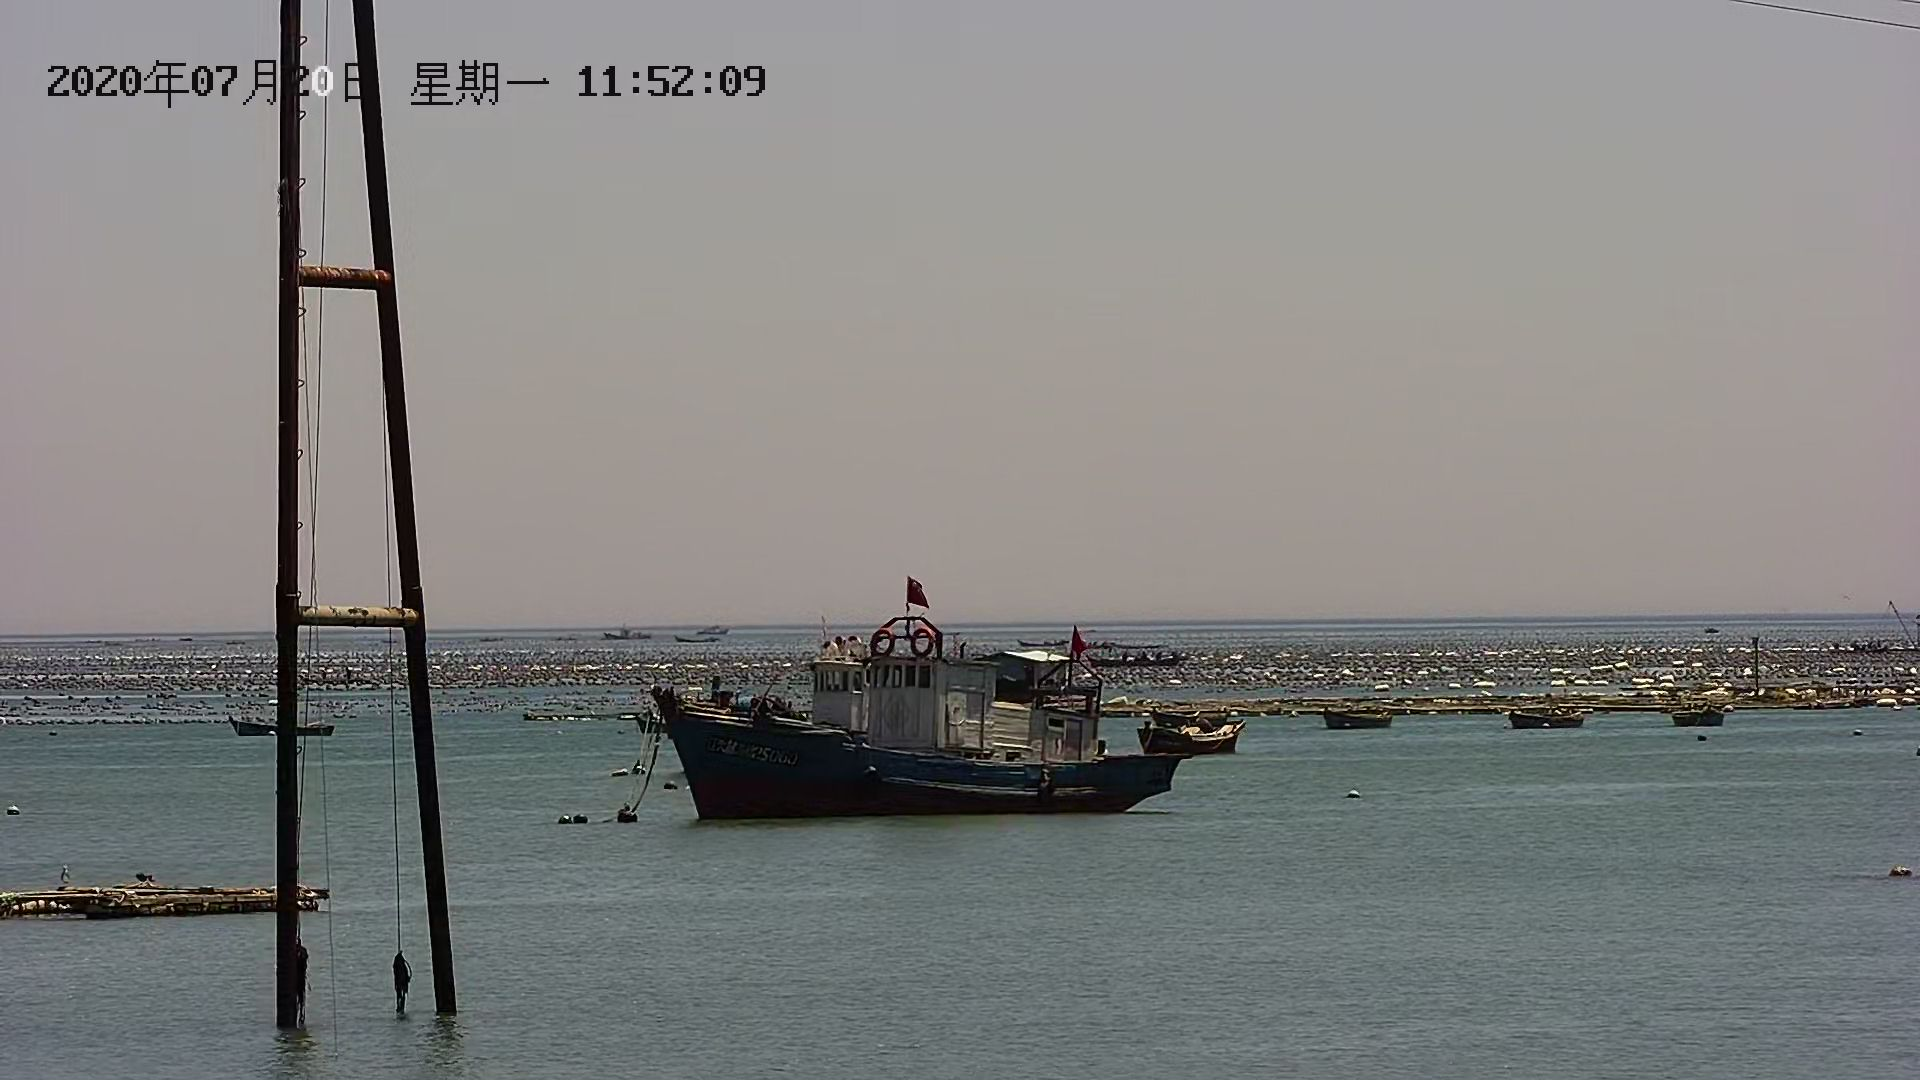boat: (653, 617, 1175, 829), (1139, 698, 1255, 762)
mast: (262, 3, 481, 1046)
platform: (8, 864, 336, 924)
